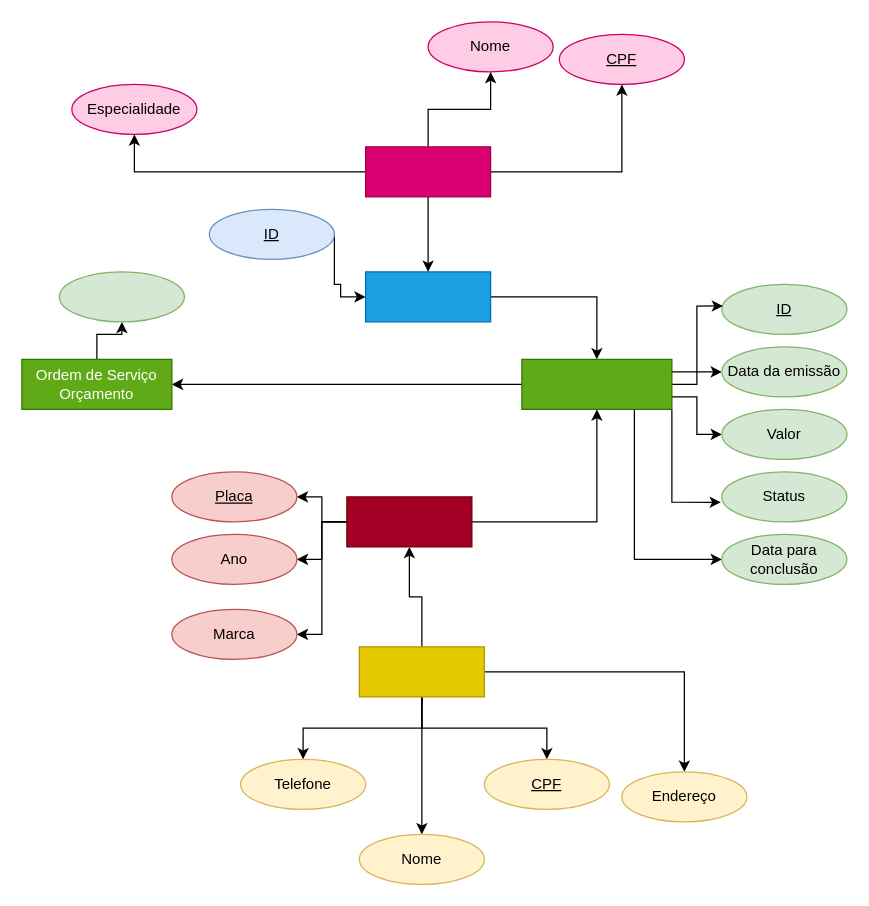
Image size: 869x906. Some labels were removed from this diagram. Here are the shapes that lost their labels. From the top down, the centre of each, then its label:
At point (427, 171): "Mecânicos".
At point (121, 296): "ID da ordem de serviço".
At point (427, 296): "Equipe".
At point (596, 383): "Ordem de Serviço".
At point (409, 521): "Veículo".
At point (421, 671): "CLientes".
